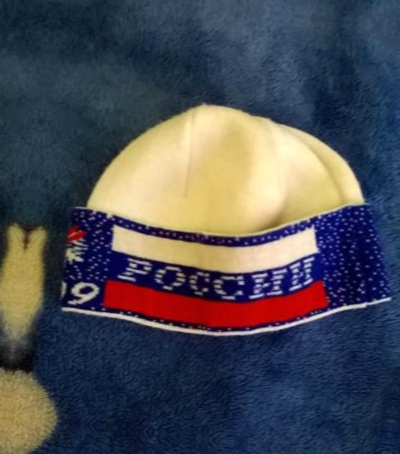Hat: (62, 80, 400, 364), (0, 27, 1, 311)
